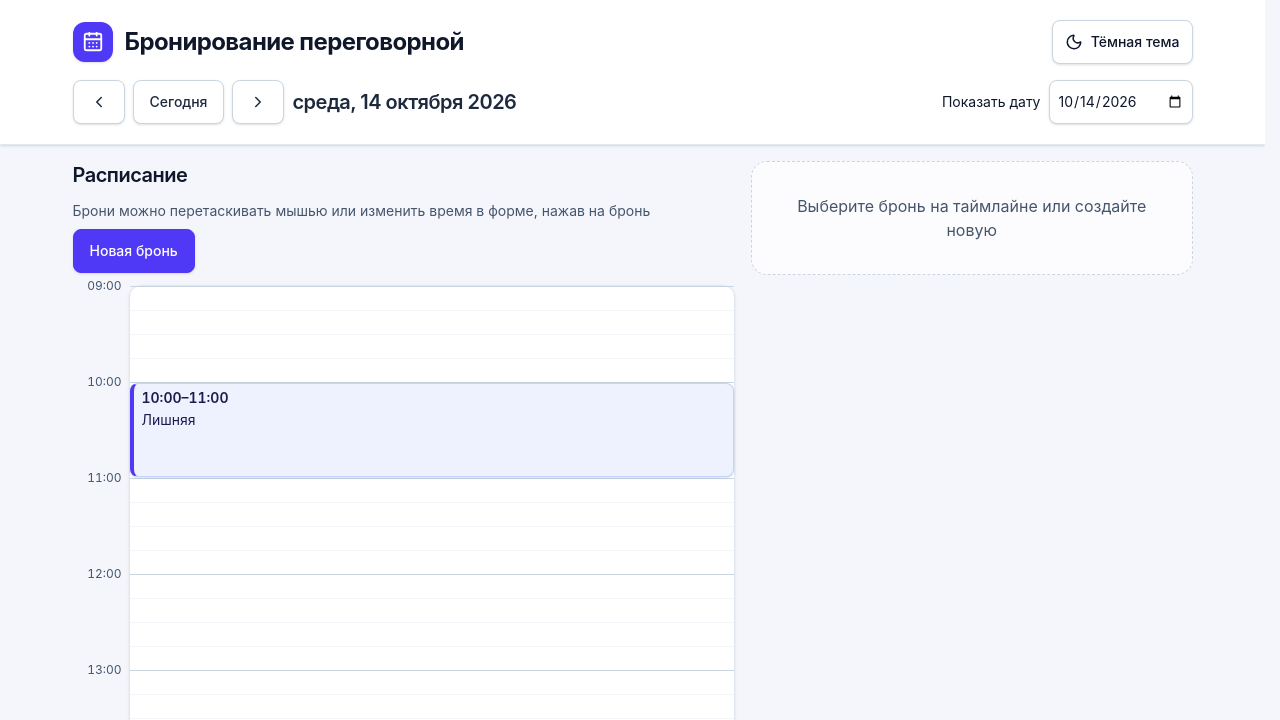
Test: 6. delete › asks for confirmation, then deletes
Click the button "10:00–11:00 Лишняя" at (185, 398), box [130,383,734,477]
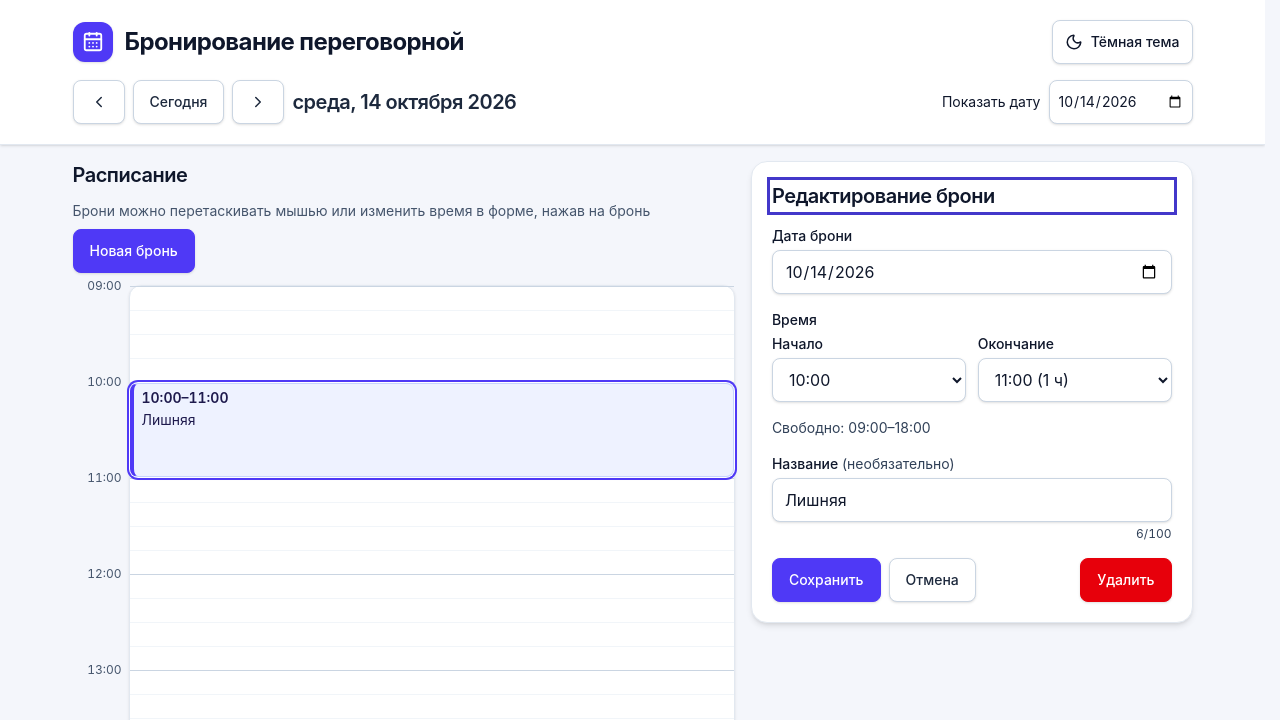
Click the button "Удалить" at (1126, 580), box [1080,558,1172,602]
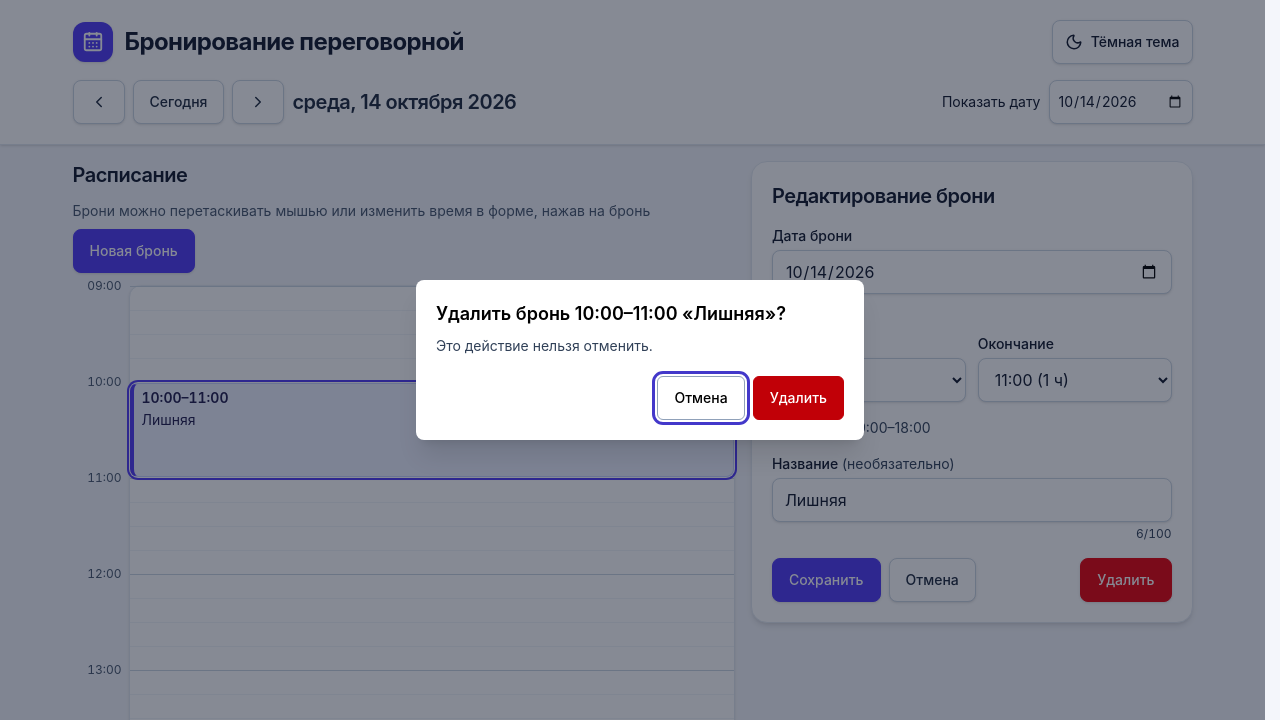
Check: the dialog shows "Удалить бронь 10:00–11:00 «Лишняя»?", box [436,303,786,324]
Click the button "Удалить" at (798, 398), box [753,376,844,420]
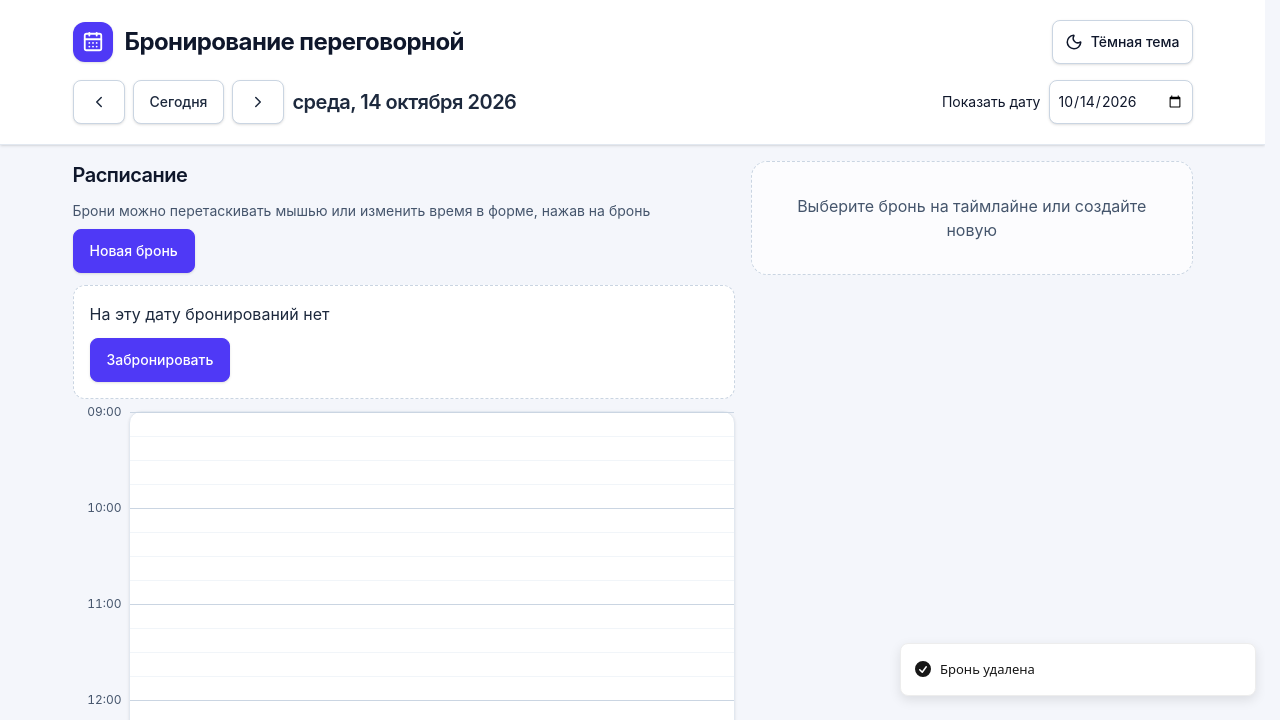
Check: the text "Бронь удалена" is shown, box [940,660,1035,679]
Check: the button "Лишняя" is gone
